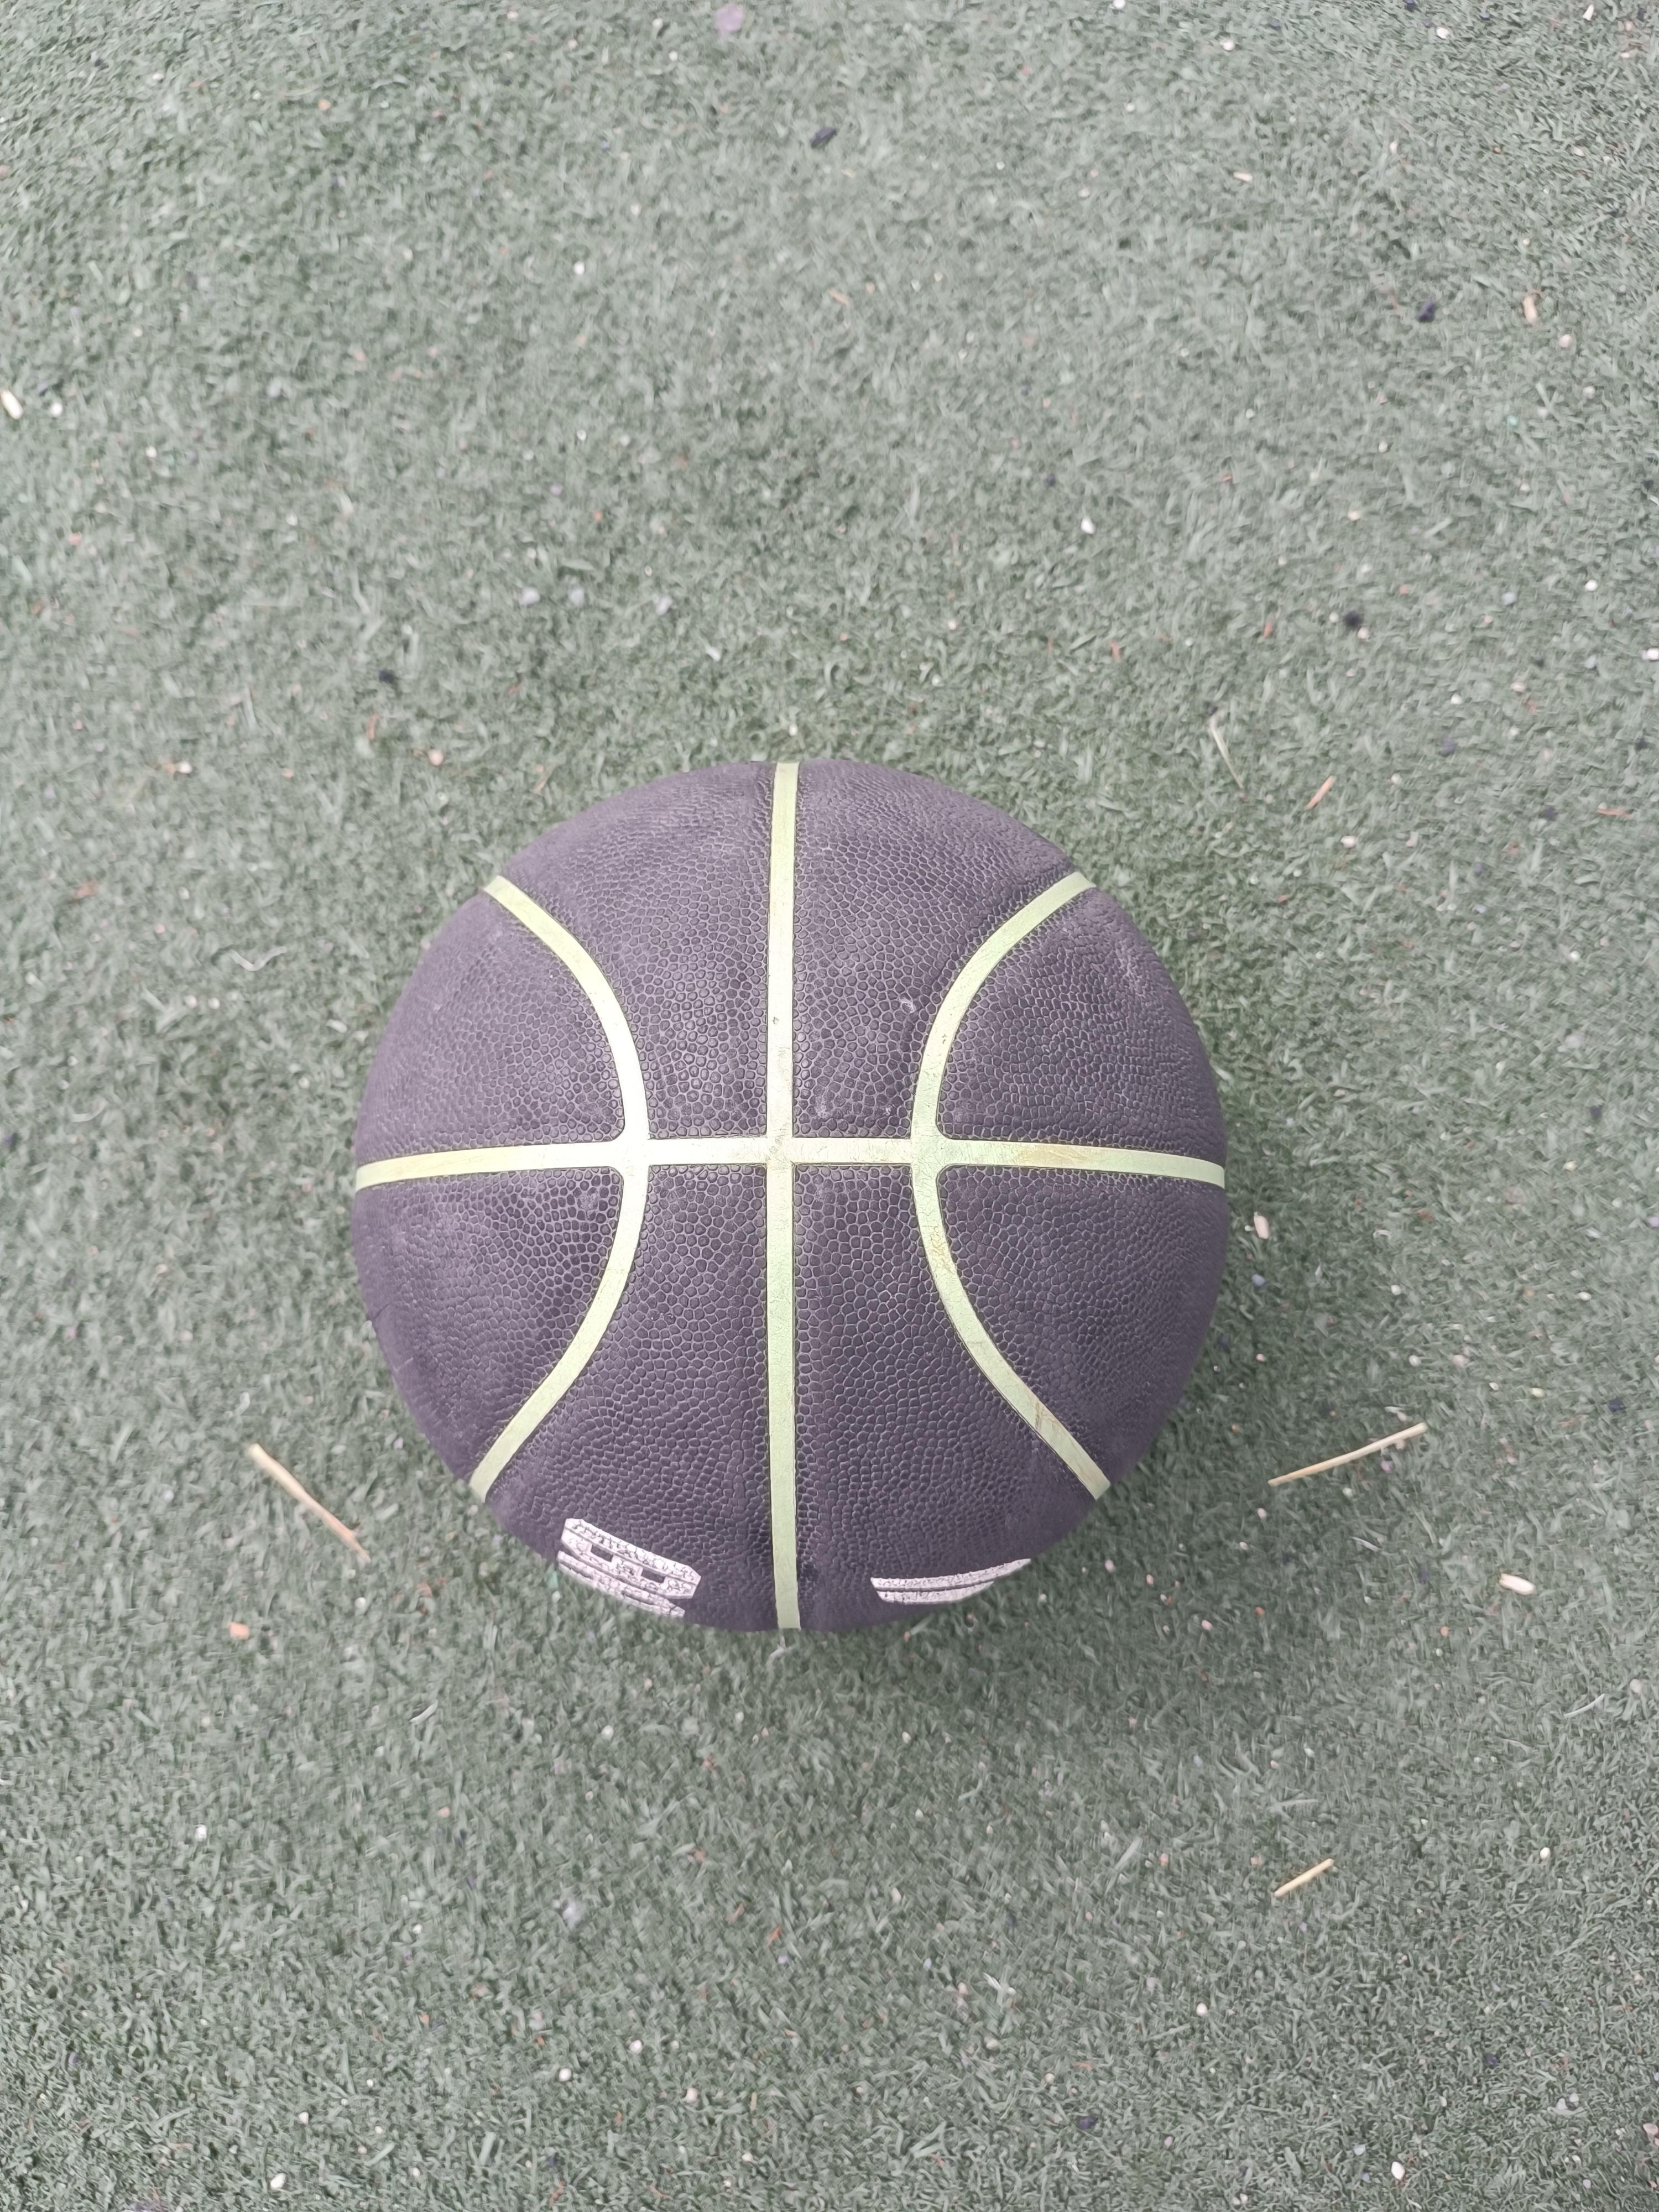Sports-Ball: (350, 761, 1227, 1629)
